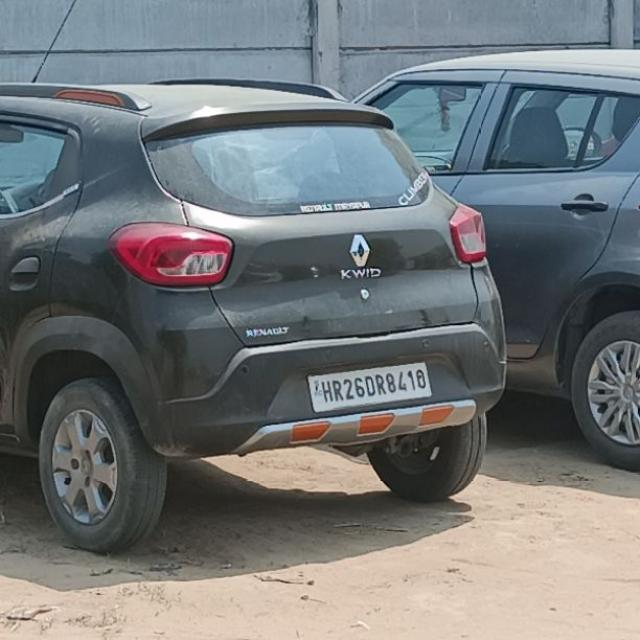license_plate: (305, 360, 433, 413)
